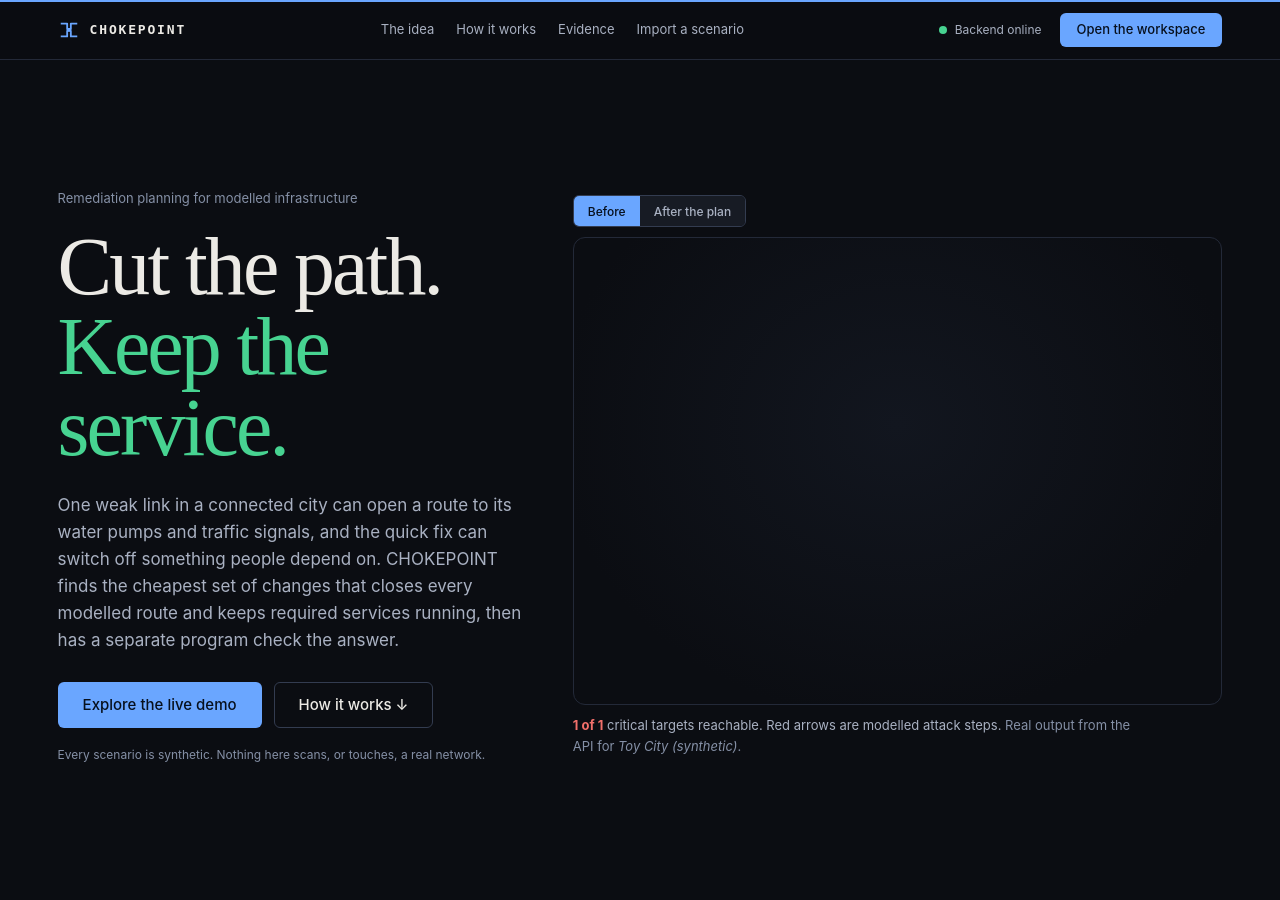
Test: landing page › builds its story from live API data and never from hard-coded results
Check: the element with test id "hero-caption" shows "1 of 1", box [573,715,1147,757]
Check: the element with test id "hero-caption" shows "Toy City (synthetic)", box [618,738,738,754]
Click the button "After the plan".
click(692, 211)  # box [640,196,745,226]
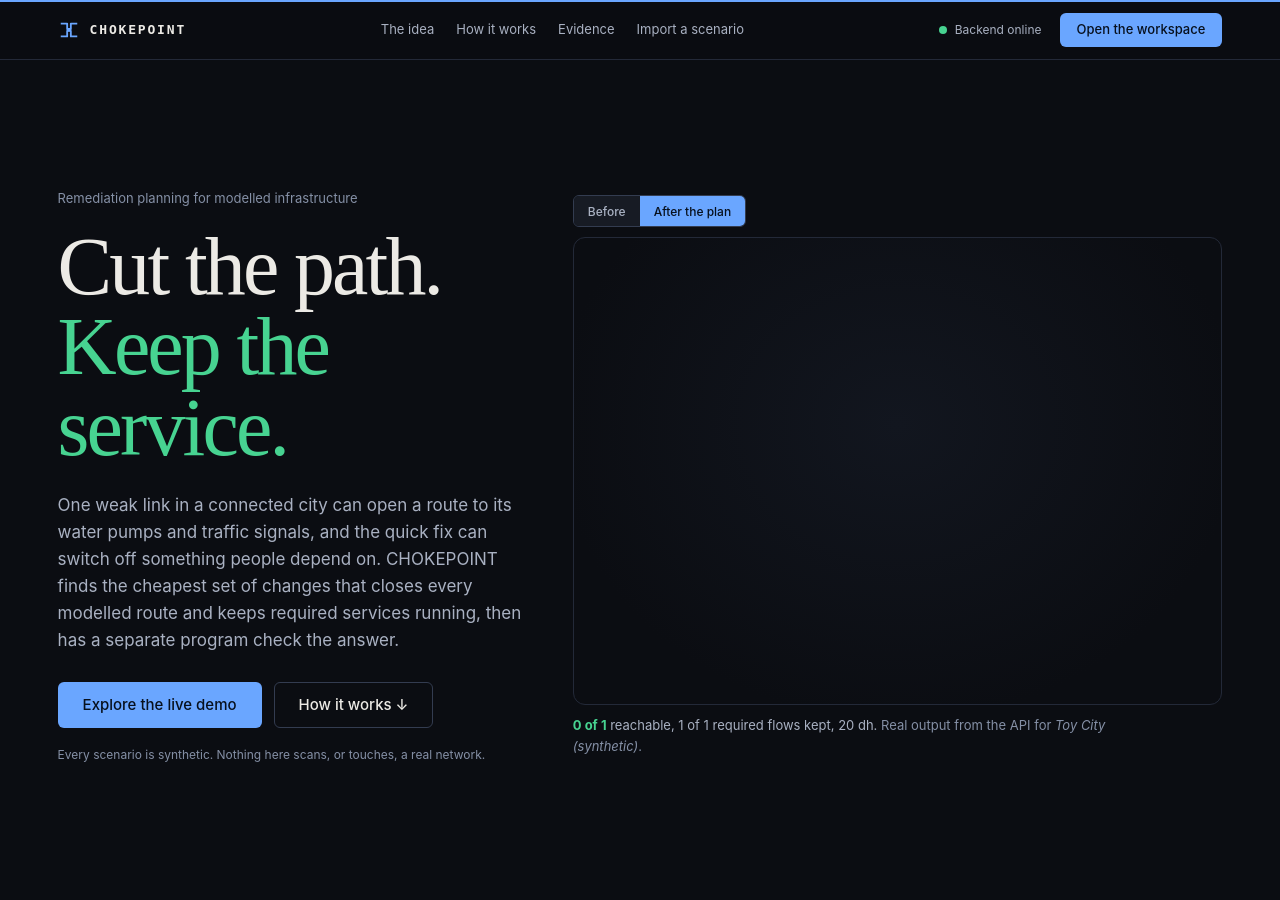
Check: the element with test id "hero-caption" shows "0 of 1", box [573,715,1147,757]
